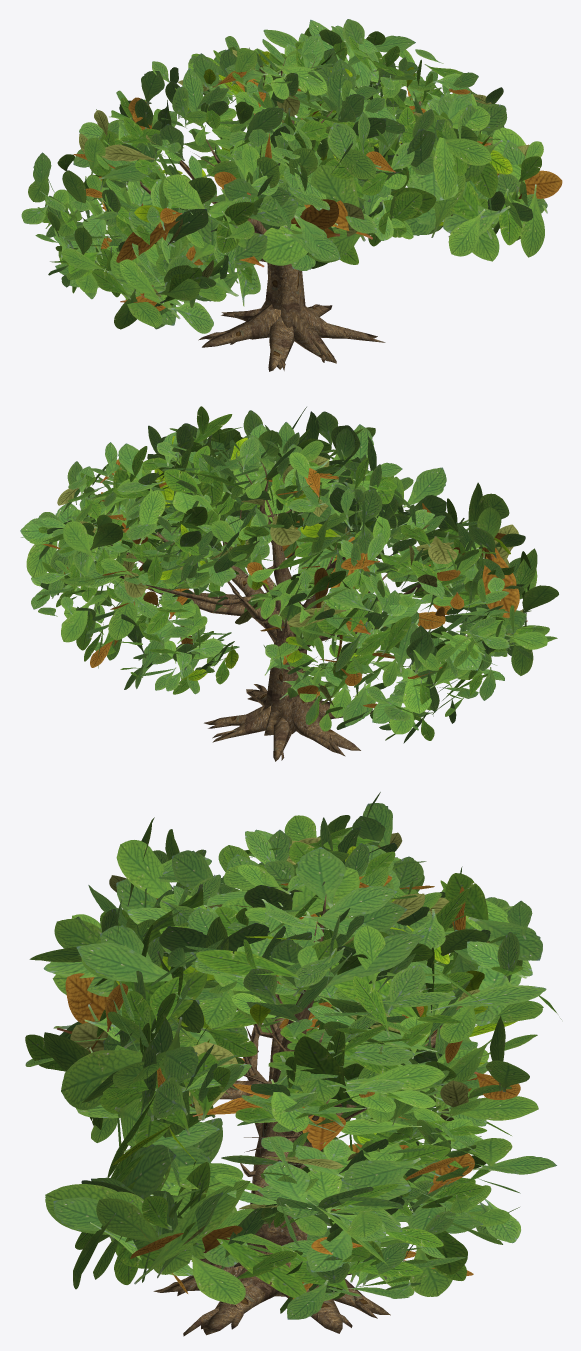
File: forest-tree.glb
The picture shows the model from 3 angles, top to bottom: view 1: azimuth 30°, elevation 25°; view 2: azimuth 150°, elevation 25°; view 3: azimuth 270°, elevation 25°; orthographic projection. The views are drawn at different scales.
Parts seen in each view (by area): view 1: Small Ketapang | branched trunk and leafy crown; view 2: Small Ketapang | branched trunk and leafy crown; view 3: Small Ketapang | branched trunk and leafy crown.
Part boxes in pixels (x1,y1,x2,y2): Small Ketapang | branched trunk and leafy crown: (21, 19, 562, 371); Small Ketapang | branched trunk and leafy crown: (20, 406, 558, 761); Small Ketapang | branched trunk and leafy crown: (25, 792, 561, 1336).
Bounding box in the file's own units: 24.11 × 14.02 × 16.08.
Materials: 2 (2 with a texture image).
